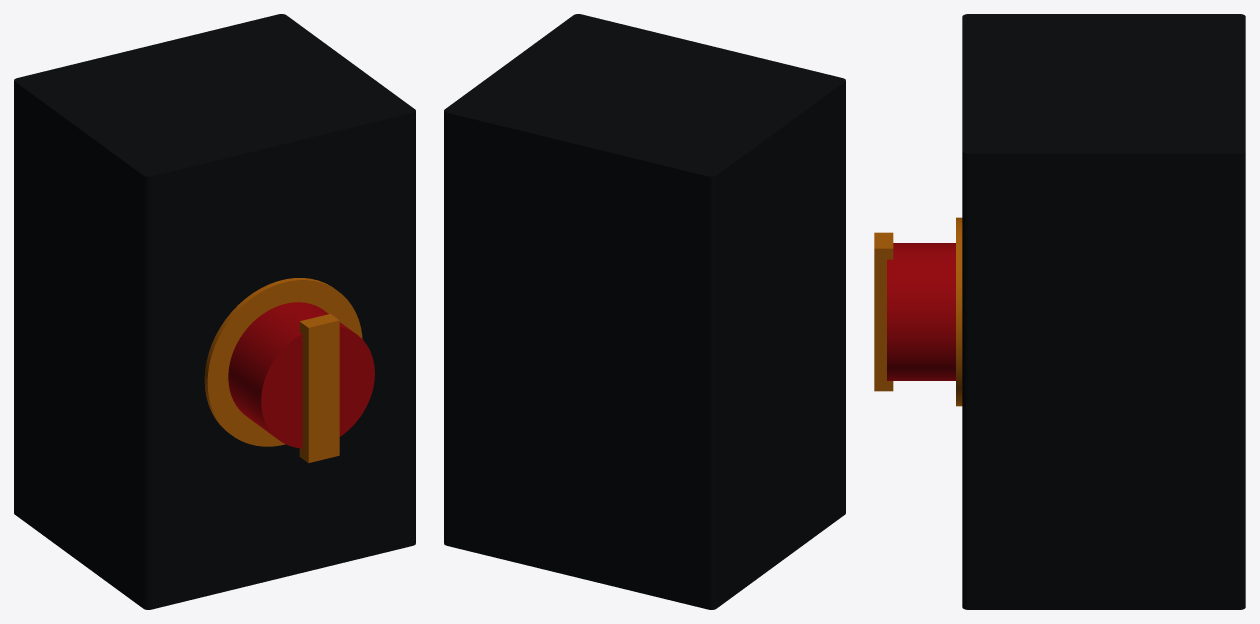
Rendered from circuit_breaker.glb.
The picture shows the model from 3 angles, left to right: view 1: azimuth 30°, elevation 25°; view 2: azimuth 150°, elevation 25°; view 3: azimuth 270°, elevation 25°; orthographic projection. The views are drawn at different scales.
Visible parts, largest first — view 1: breaker; view 2: breaker; view 3: breaker.
Boxes of the visible parts, x1,y1,x2,y2 form: breaker: [14, 14, 415, 609]; breaker: [444, 14, 845, 609]; breaker: [874, 14, 1245, 609].
Bounding box in the file's own units: 0.105 × 0.16 × 0.118.
